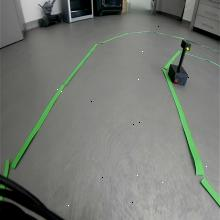green: (181, 37, 191, 52)
